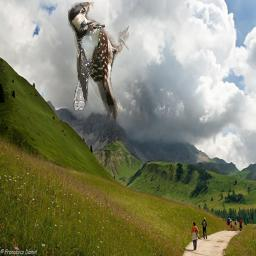Cuckoo: (73, 23, 105, 110)
Woodpecker: (68, 2, 129, 122)
